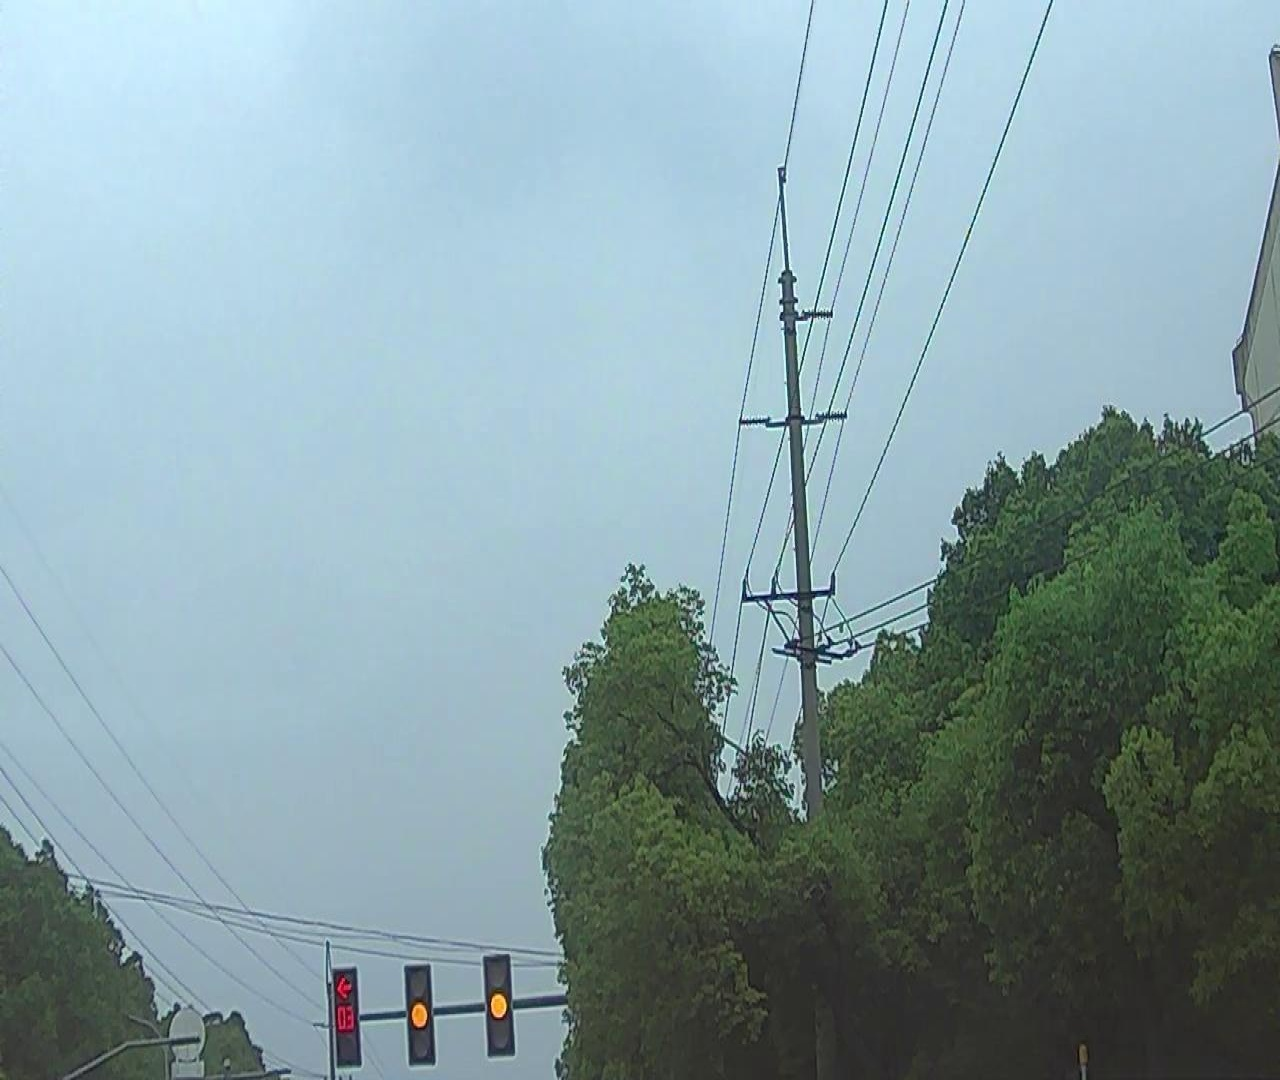red: (328, 963, 359, 1072)
yellow: (405, 966, 437, 1060), (484, 958, 513, 1054)
